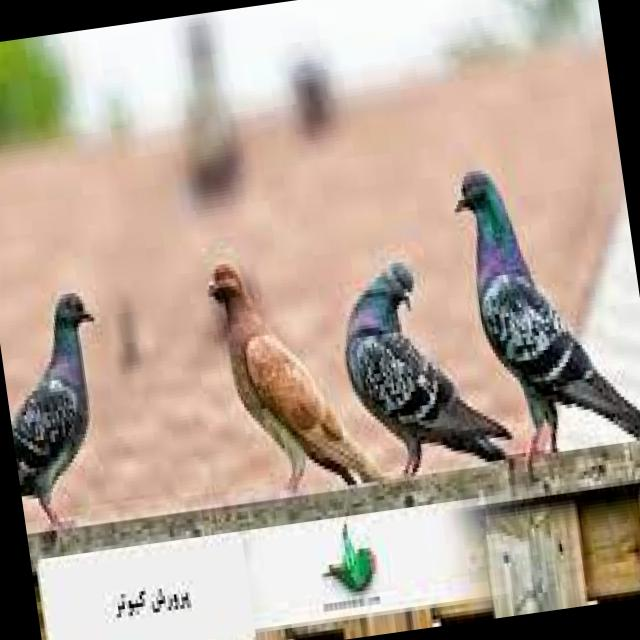bird: (446, 143, 640, 488), (204, 242, 388, 508), (330, 232, 518, 486), (0, 282, 127, 538)
